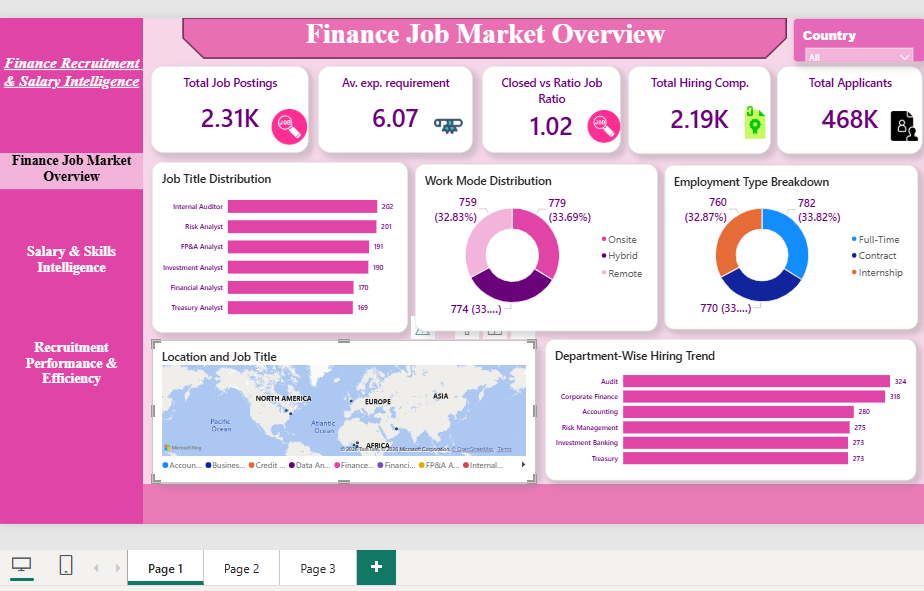

The page's visual inventory and layout, read from the dashboard file:
{"tool":"powerbi","page":{"name":"Page 1","canvas":[1618,881],"ordinal":0},"visuals":[{"type":"card","title":"Total Job Postings","fields":{"Values":["Finance Dataset.Total Job Postings"]},"box":[261.9,83.2,274,150.9],"z":0},{"type":"card","title":"Total Hiring Comp.","fields":{"Values":["Finance Dataset.Total Hiring Companies"]},"box":[1092.6,83.2,248,152.6],"z":1000},{"type":"card","title":"Total Applicants","fields":{"Values":["Finance Dataset.Total Applicants"]},"box":[1351,83.2,253.2,152.6],"z":2000},{"type":"card","title":"Av. exp. requirement","fields":{"Values":["Finance Dataset.Av. experience requirement"]},"box":[814.2,85.2,267.9,151.4],"z":3000},{"type":"card","title":"Closed vs Ratio Job Ratio","fields":{"Values":["Finance Dataset.Closed vs Ratio"]},"box":[546.3,85.2,257.5,151.4],"z":4000},{"type":"barChart","title":"Job Title Distribution","fields":{"Category":["Finance Dataset.Job Title"],"Y":["CountNonNull(Finance Dataset.Job ID)"]},"box":[262.7,560.2,669.8,245.3],"z":5000},{"type":"clusteredBarChart","title":"Department-Wise Hiring Trend","fields":{"Category":["Finance Dataset.Department"],"Y":["CountNonNull(Finance Dataset.Hired Candidates)"]},"box":[949,559,646,246.3],"z":6000},{"type":"columnChart","title":"Top 5 Hiring Countries","fields":{"Y":["CountNonNull(Finance Dataset.Job Title)"],"Category":["Finance Dataset.Country"]},"box":[262.7,254,443.6,290.5],"z":7000},{"type":"donutChart","title":" Employment Type Breakdown","fields":{"Category":["Finance Dataset.Employment Type"],"Y":["CountNonNull(Finance Dataset.Job ID)"]},"box":[1155.2,255.7,441.9,288.8],"z":8000},{"type":"donutChart","title":" Work Mode Distribution","fields":{"Y":["CountNonNull(Finance Dataset.Job ID)"],"Category":["Finance Dataset.Work Mode"]},"box":[721.5,254.2,421.6,290.5],"z":9000},{"type":"slicer","title":"Country","fields":{"Values":["Finance Dataset.Country"]},"box":[1378.8,0,230.8,76.9],"z":10000},{"type":"shape","box":[0,0,248.8,880.3],"z":11000},{"type":"textbox","box":[0,62.6,248.8,83.5],"z":12000},{"type":"textbox","box":[367.1,0,962.1,62.6],"z":13000},{"type":"image","box":[1546.7,161.8,62.6,55.7],"z":14000},{"type":"image","box":[1012.6,149.6,57.4,71.3],"z":15000},{"type":"actionButton","box":[0,210.5,248.8,67.9],"z":16000},{"type":"actionButton","box":[0,379.3,248.8,76.6],"z":17000},{"type":"actionButton","box":[0,560.2,248.8,90.5],"z":18000},{"type":"image","box":[1284,161.8,60.9,55.7],"z":19000},{"type":"image","box":[462.8,160.1,73.1,55.7],"z":20000},{"type":"image","box":[744.6,154.8,45.2,66.1],"z":21000}]}

Visuals, with their boxes on the page's 1618x881 design canvas (x1, y1, x2, y2). These are canvas units, not pixel positions in the 924x591 screenshot, which may show the page scaled, cropped or inside an application window:
"Total Job Postings" card: (left=262, top=83, right=536, bottom=234)
"Total Hiring Comp." card: (left=1093, top=83, right=1341, bottom=236)
"Total Applicants" card: (left=1351, top=83, right=1604, bottom=236)
"Av. exp. requirement" card: (left=814, top=85, right=1082, bottom=237)
"Closed vs Ratio Job Ratio" card: (left=546, top=85, right=804, bottom=237)
"Job Title Distribution" barChart: (left=263, top=560, right=932, bottom=806)
"Department-Wise Hiring Trend" clusteredBarChart: (left=949, top=559, right=1595, bottom=805)
"Top 5 Hiring Countries" columnChart: (left=263, top=254, right=706, bottom=544)
" Employment Type Breakdown" donutChart: (left=1155, top=256, right=1597, bottom=544)
" Work Mode Distribution" donutChart: (left=722, top=254, right=1143, bottom=545)
"Country" slicer: (left=1379, top=0, right=1610, bottom=77)
shape: (left=0, top=0, right=249, bottom=880)
textbox: (left=0, top=63, right=249, bottom=146)
textbox: (left=367, top=0, right=1329, bottom=63)
image: (left=1547, top=162, right=1609, bottom=218)
image: (left=1013, top=150, right=1070, bottom=221)
actionButton: (left=0, top=210, right=249, bottom=278)
actionButton: (left=0, top=379, right=249, bottom=456)
actionButton: (left=0, top=560, right=249, bottom=651)
image: (left=1284, top=162, right=1345, bottom=218)
image: (left=463, top=160, right=536, bottom=216)
image: (left=745, top=155, right=790, bottom=221)
